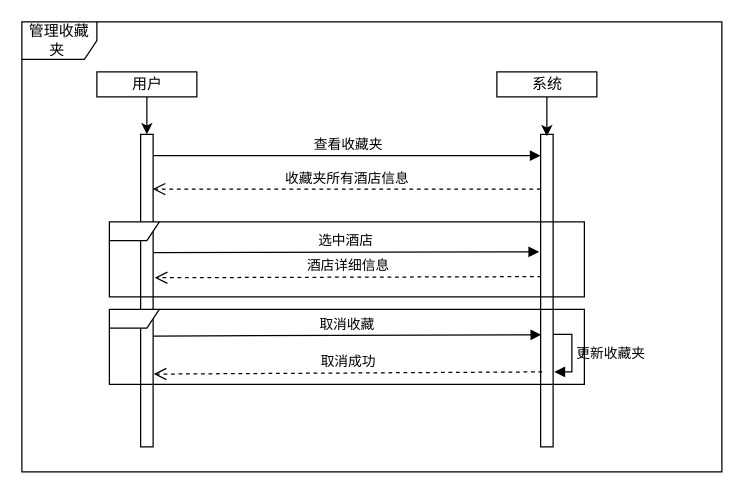
The diagram is 744 pixels wide and 494 high, and some of its shapes have lost their labels. Here are the shapes that lost their labels. From the top down, the box of each, then its label:
(108, 221, 584, 297): loop
(108, 308, 584, 384): opt
